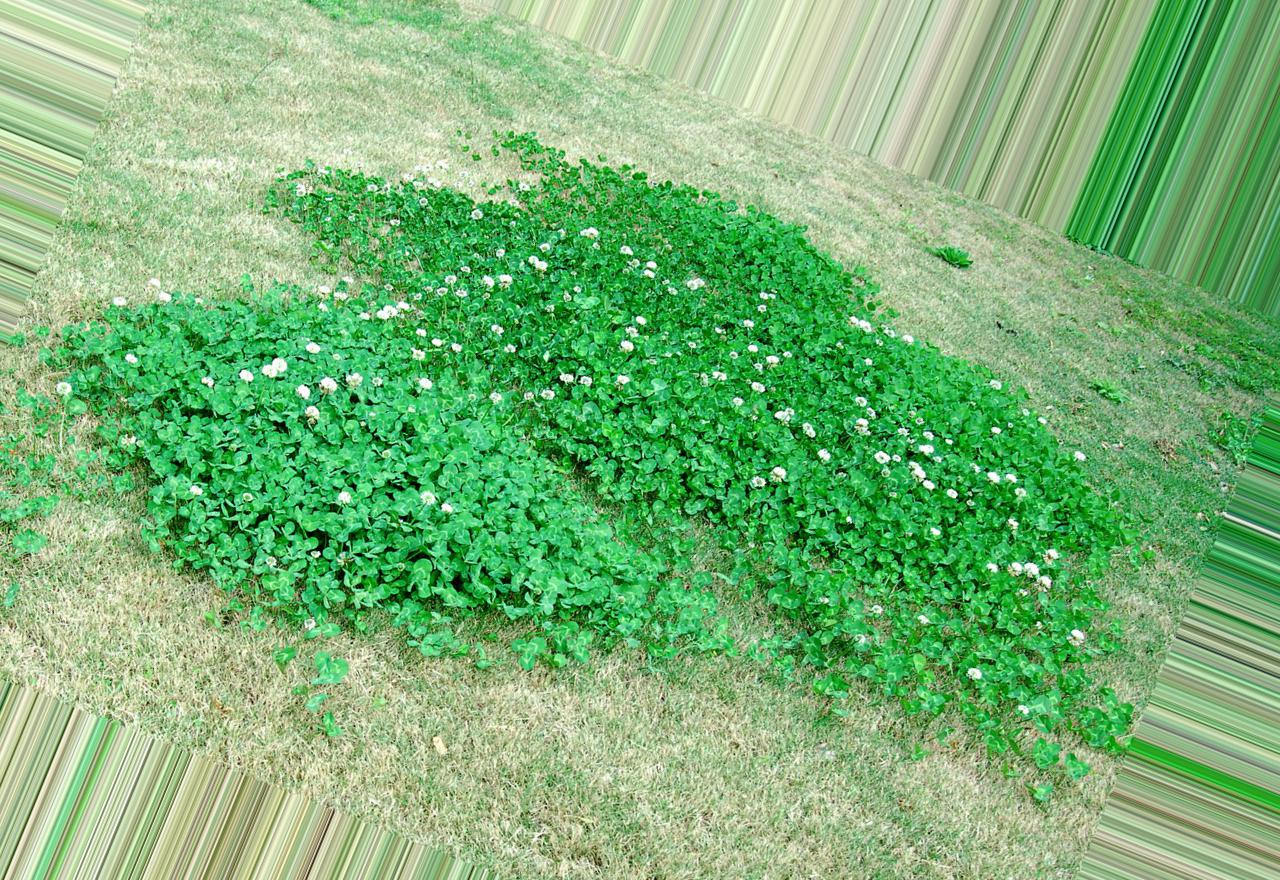patch: (239, 25, 439, 144), (381, 698, 542, 805), (590, 717, 771, 800), (90, 586, 183, 730), (812, 749, 947, 815), (571, 93, 695, 159), (788, 164, 873, 222), (173, 159, 249, 217)
